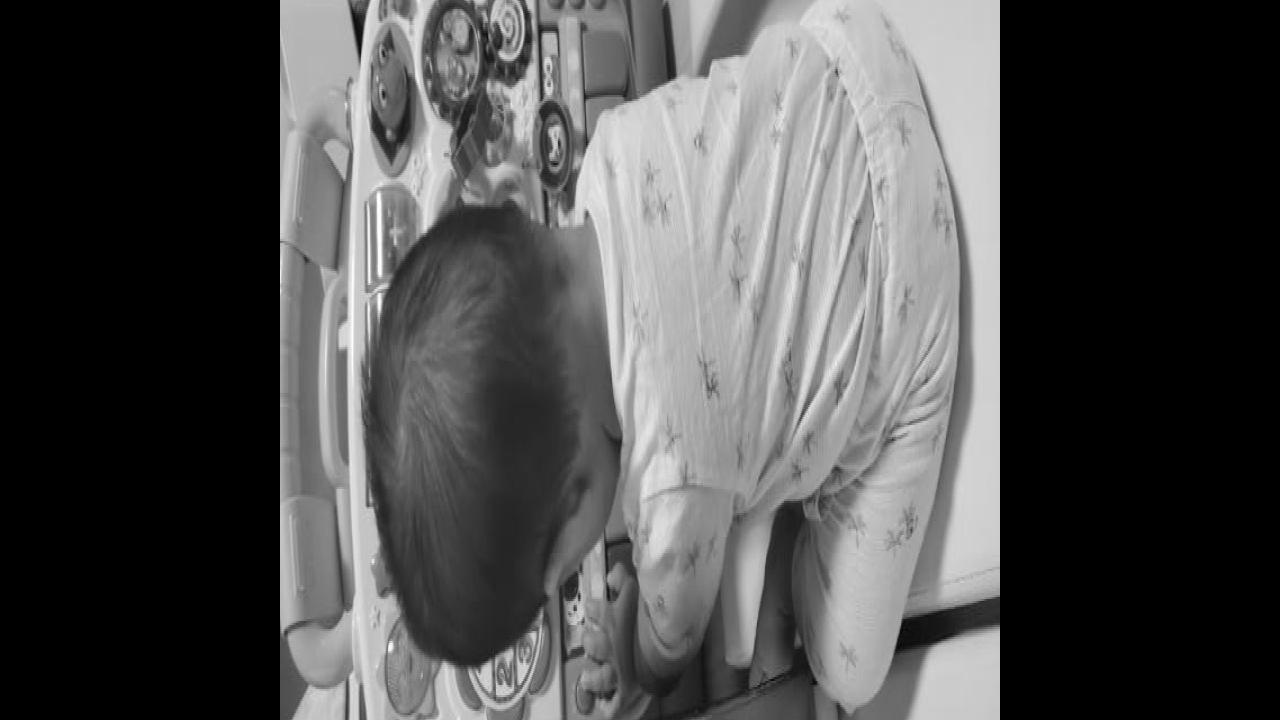hand: (579, 560, 640, 720)
